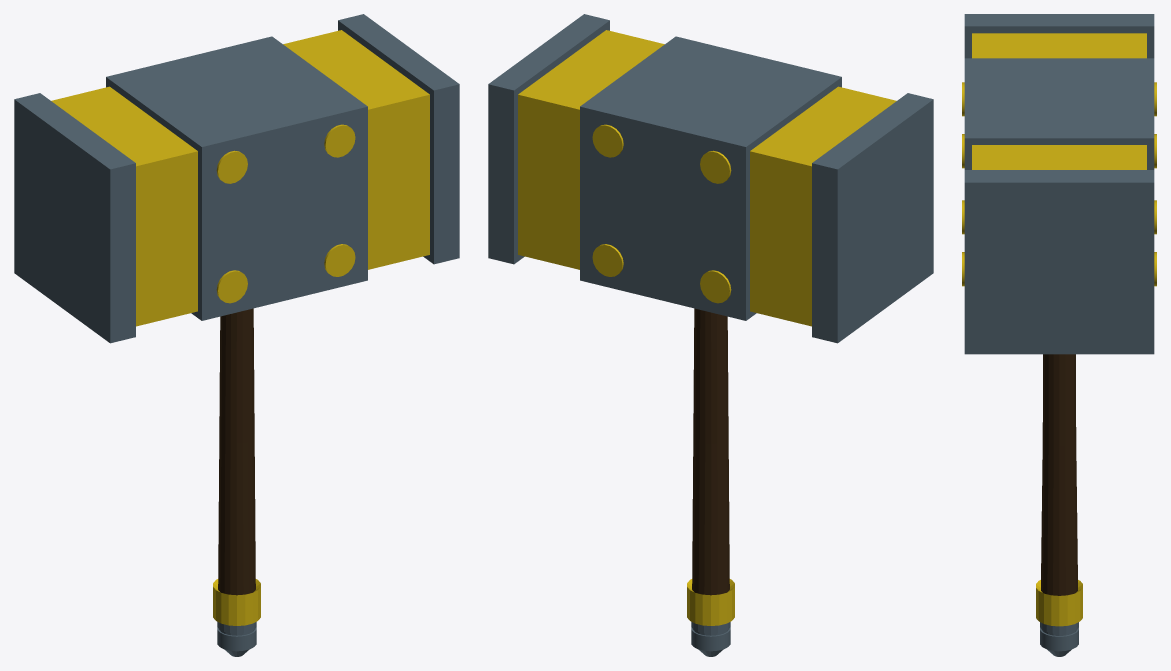
File: HAMMER.fbx
The picture shows the model from 3 angles, left to right: view 1: azimuth 30°, elevation 25°; view 2: azimuth 150°, elevation 25°; view 3: azimuth 270°, elevation 25°; orthographic projection.
Visible parts, largest first — view 1: LD_HAMMER; view 2: LD_HAMMER; view 3: LD_HAMMER.
Part boxes in pixels (bbox=[...]): LD_HAMMER: bbox=[14, 14, 459, 656]; LD_HAMMER: bbox=[488, 14, 933, 656]; LD_HAMMER: bbox=[962, 14, 1156, 656].
Bounding box in the file's own units: 40.26 × 61.91 × 19.66.
